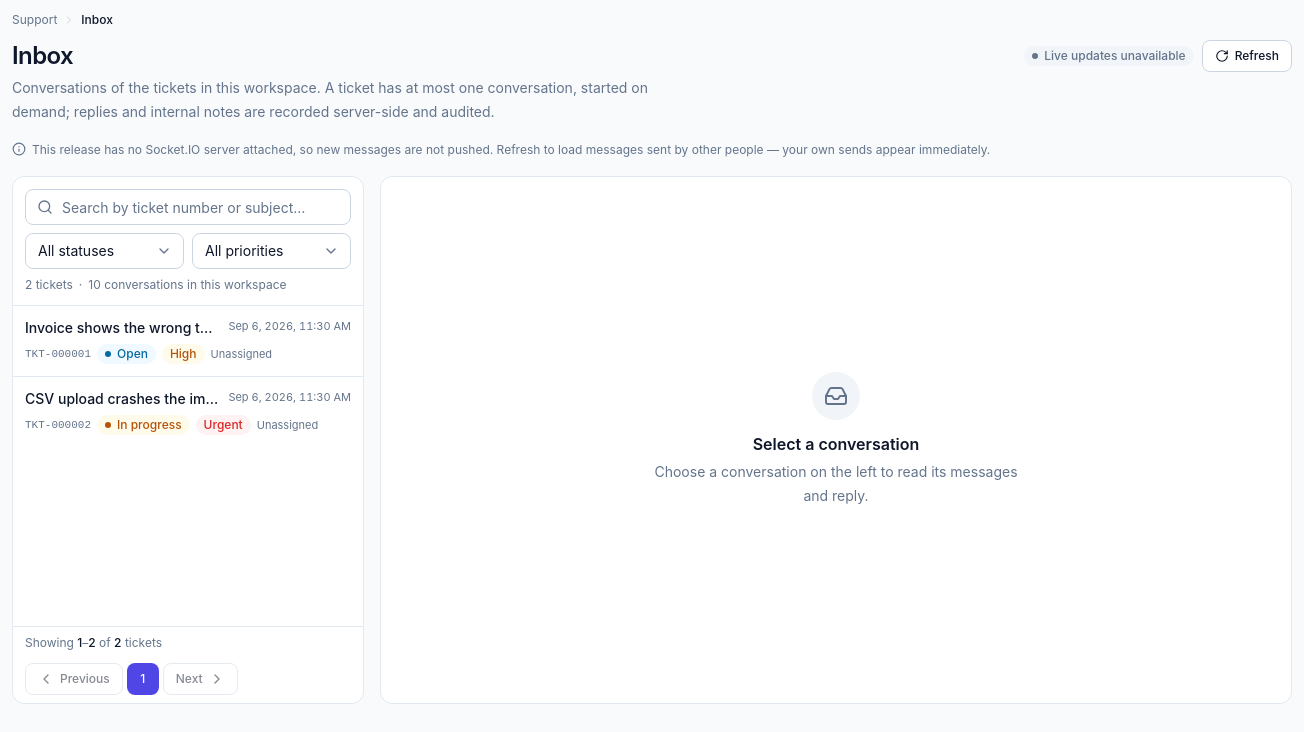
Test: InboxPage › sends internal notes and marks them staff-only
Click the button "Invoice shows the wrong total" at (188, 341), box [13, 306, 363, 376]
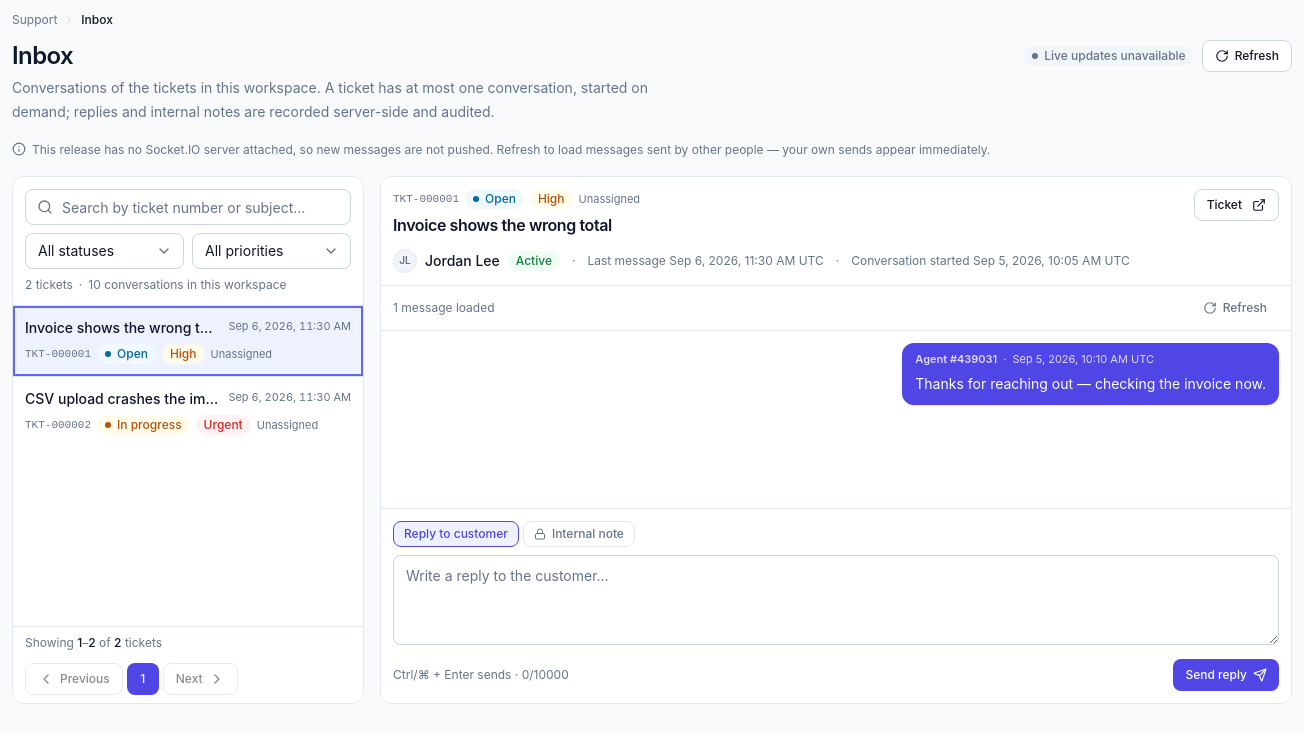
Now the text "Thanks for reaching out — checking the invoice now." is shown, box [915, 372, 1266, 396]
Click the button "Internal note" at (579, 534), box [523, 521, 635, 547]
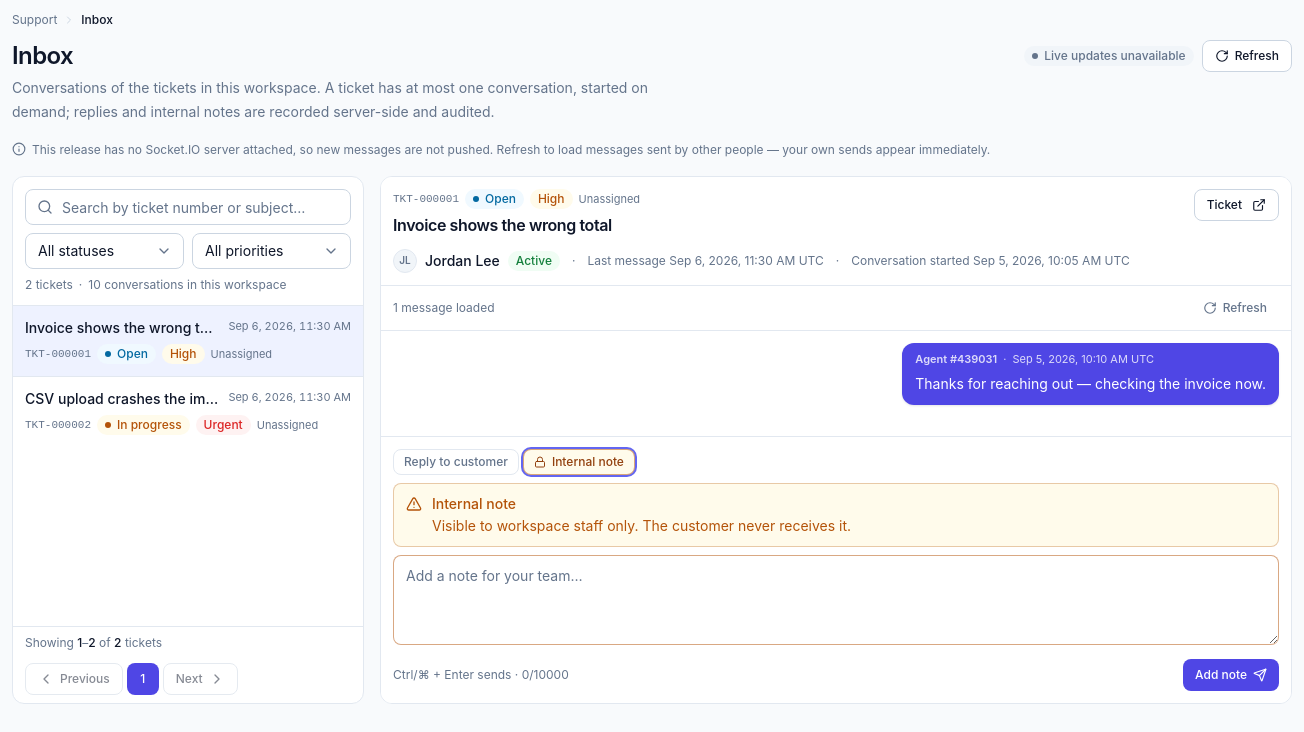
Type "Finance confirmed the refund" into the text box at (836, 600), box [393, 555, 1279, 645]
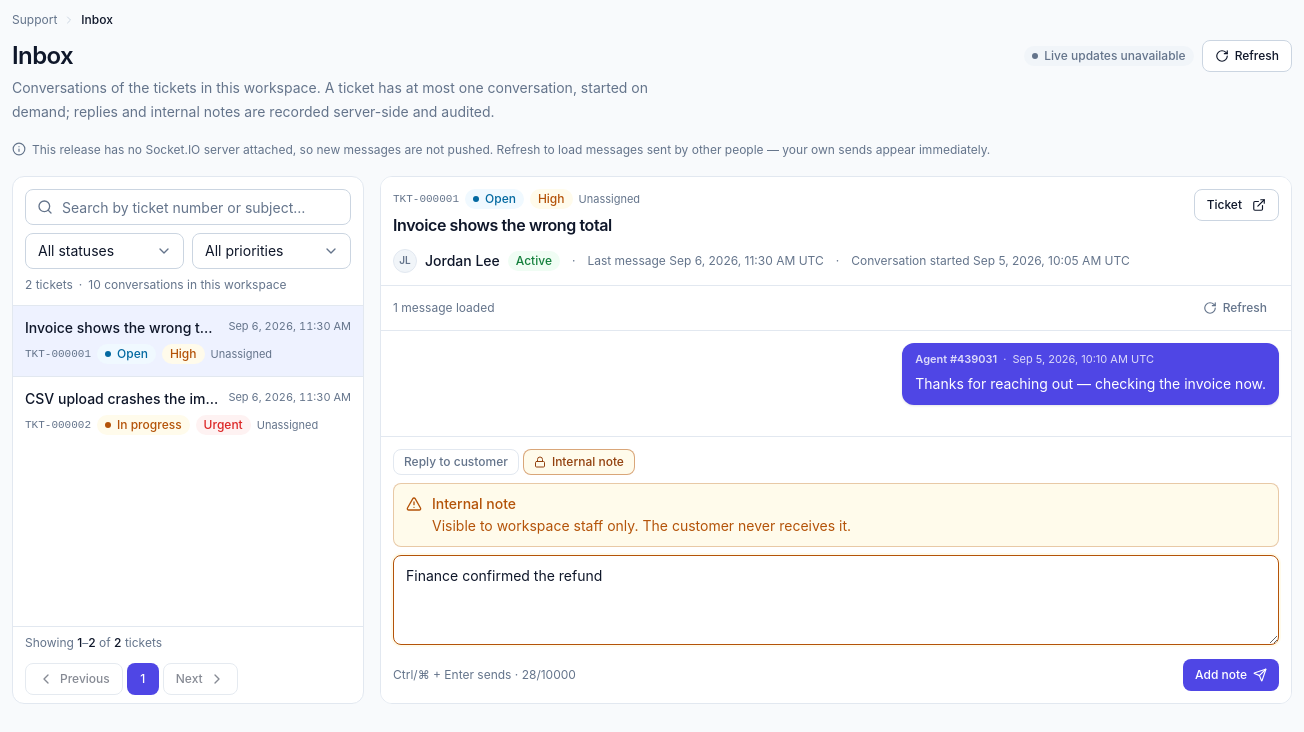
Click the button "Add note" at (1231, 675), box [1183, 659, 1279, 691]
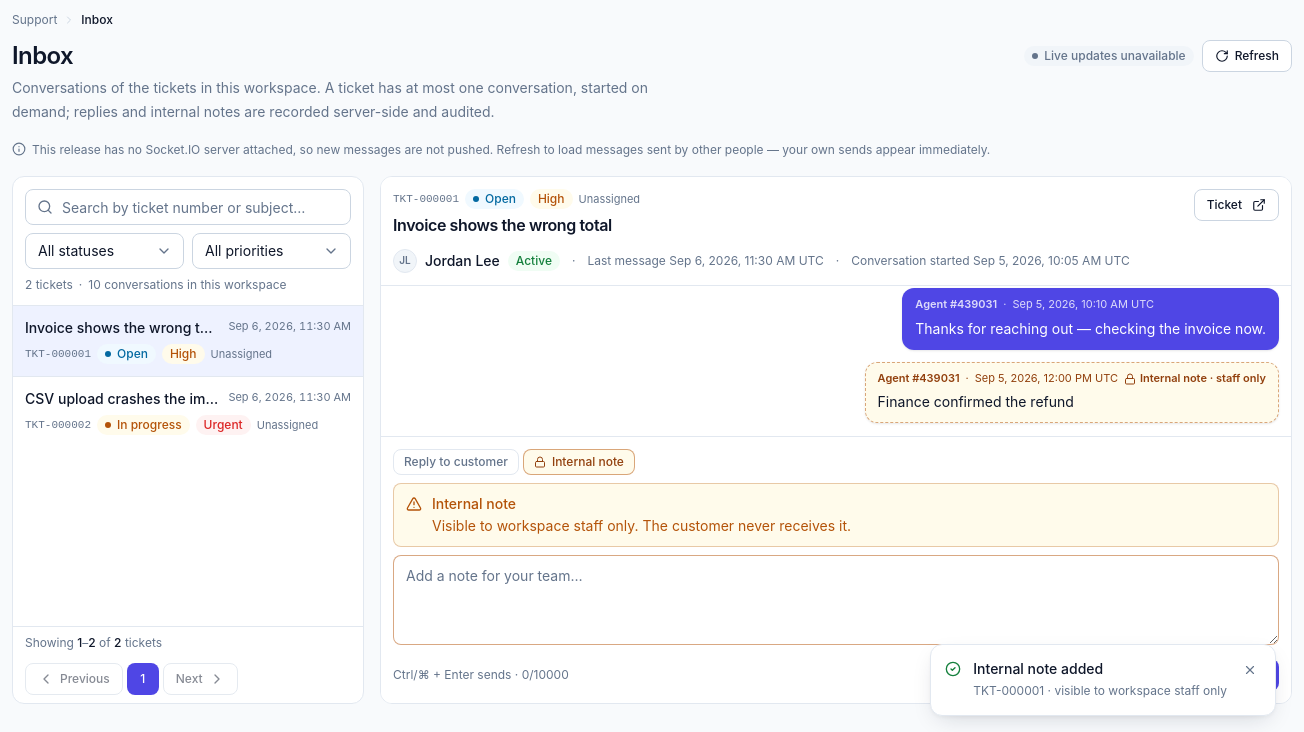
Now the text "Finance confirmed the refund" is shown, box [878, 393, 1074, 410]
Now the text "Internal note · staff only" is shown, box [1124, 371, 1266, 386]
